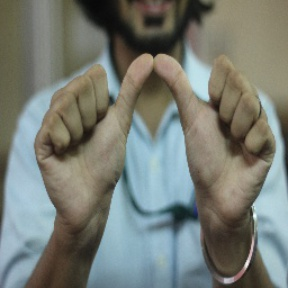A: (62, 48, 254, 205)
